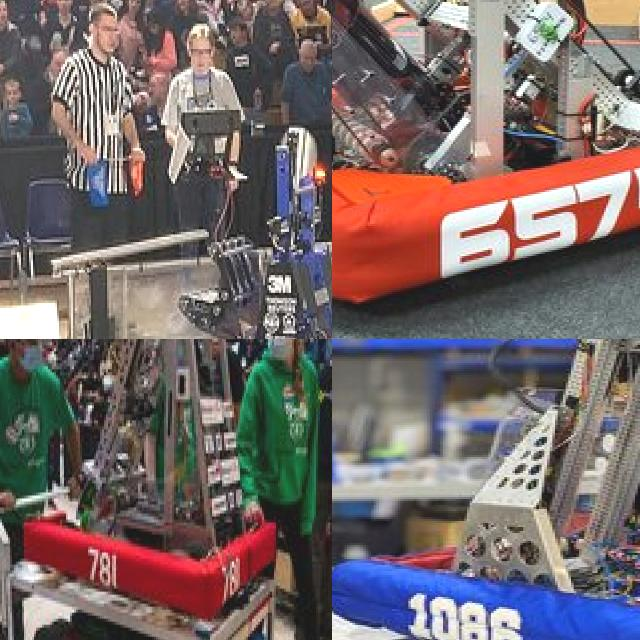FRC-Robots: (332, 0, 640, 308), (332, 339, 640, 640), (16, 339, 292, 628), (152, 93, 332, 339)
